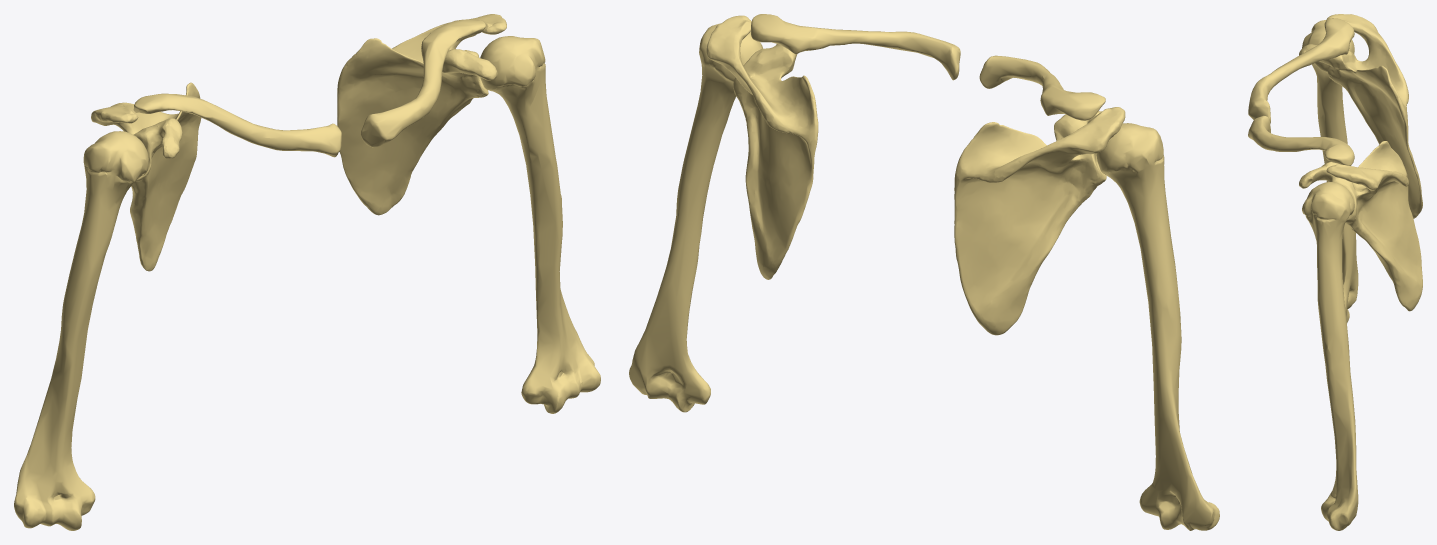
Rendered from shoulder.glb.
3 renders of one model, left to right at view 1: azimuth 30°, elevation 25°; view 2: azimuth 150°, elevation 25°; view 3: azimuth 270°, elevation 25°, orthographic. The views are drawn at different scales.
Parts seen in each view (by area): view 1: shoulder:humerus:isa:FJ3368, shoulder:humerus:isa:FJ3262, shoulder:scapula:isa:FJ3279, shoulder:scapula:isa:FJ3384, shoulder:clavicle:isa:FJ3362, shoulder:clavicle:isa:FJ3237; view 2: shoulder:scapula:isa:FJ3384, shoulder:humerus:isa:FJ3368, shoulder:scapula:isa:FJ3279, shoulder:humerus:isa:FJ3262, shoulder:clavicle:isa:FJ3237, shoulder:clavicle:isa:FJ3362; view 3: shoulder:humerus:isa:FJ3262, shoulder:scapula:isa:FJ3279, shoulder:scapula:isa:FJ3384, shoulder:humerus:isa:FJ3368, shoulder:clavicle:isa:FJ3362, shoulder:clavicle:isa:FJ3237.
Boxes of the visible parts, <box> form: shoulder:humerus:isa:FJ3368: <box>14,131,148,530</box>; shoulder:humerus:isa:FJ3262: <box>480,36,600,413</box>; shoulder:scapula:isa:FJ3279: <box>337,14,506,215</box>; shoulder:scapula:isa:FJ3384: <box>91,82,201,271</box>; shoulder:clavicle:isa:FJ3362: <box>133,93,341,157</box>; shoulder:clavicle:isa:FJ3237: <box>360,19,485,147</box>; shoulder:scapula:isa:FJ3384: <box>954,107,1125,335</box>; shoulder:humerus:isa:FJ3368: <box>1096,123,1219,530</box>; shoulder:scapula:isa:FJ3279: <box>706,15,818,279</box>; shoulder:humerus:isa:FJ3262: <box>629,23,763,412</box>; shoulder:clavicle:isa:FJ3237: <box>751,14,960,80</box>; shoulder:clavicle:isa:FJ3362: <box>979,55,1105,120</box>; shoulder:humerus:isa:FJ3262: <box>1302,182,1358,530</box>; shoulder:scapula:isa:FJ3279: <box>1299,141,1422,311</box>; shoulder:scapula:isa:FJ3384: <box>1299,14,1422,218</box>; shoulder:humerus:isa:FJ3368: <box>1302,20,1358,322</box>; shoulder:clavicle:isa:FJ3362: <box>1248,18,1354,123</box>; shoulder:clavicle:isa:FJ3237: <box>1248,115,1354,165</box>.
Bounding box in the file's own units: 0.4816 × 0.3261 × 0.1522.
